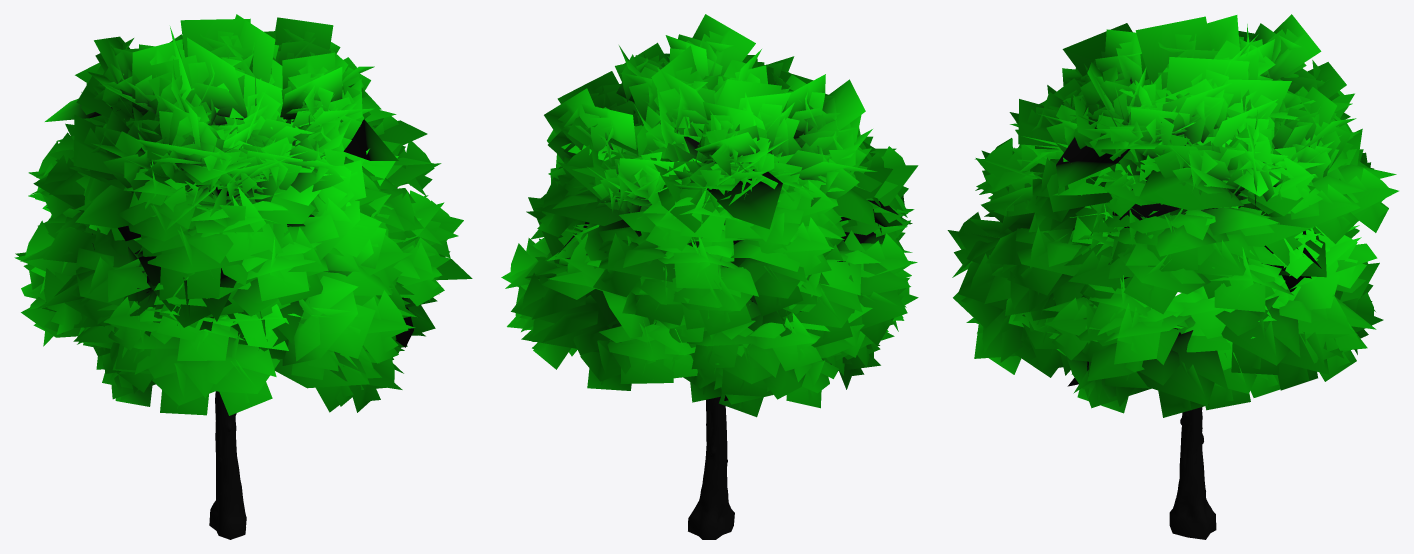
The picture shows the model from 3 angles, left to right: view 1: azimuth 30°, elevation 25°; view 2: azimuth 150°, elevation 25°; view 3: azimuth 270°, elevation 25°; orthographic projection. The views are drawn at different scales.
Visible parts, largest first — view 1: SM_TR_CitrusTree_4m_HD; view 2: SM_TR_CitrusTree_4m_HD; view 3: SM_TR_CitrusTree_4m_HD.
Part boxes in pixels (x1=…): SM_TR_CitrusTree_4m_HD: x1=14, y1=14, x2=472, y2=539; SM_TR_CitrusTree_4m_HD: x1=501, y1=14, x2=918, y2=539; SM_TR_CitrusTree_4m_HD: x1=947, y1=14, x2=1398, y2=539.
Size of the model in its own units: 165 by 167 by 200.
